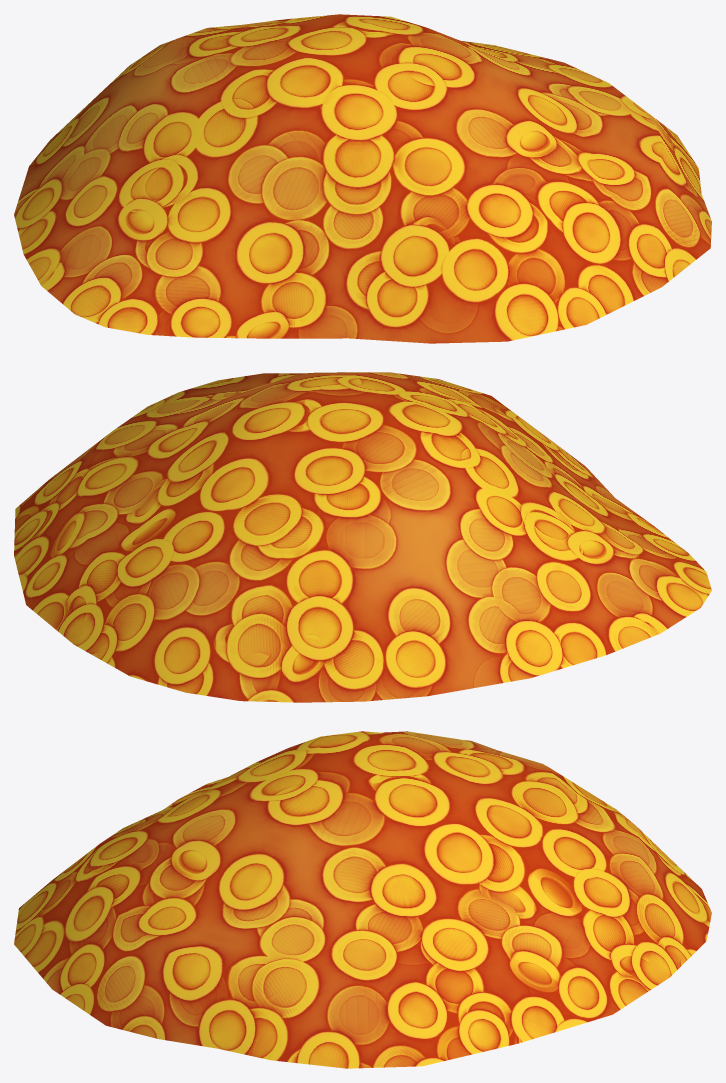
The model's file is SM_Small_Coin_Pile.fbx.
3 renders of one model, top to bottom at view 1: azimuth 30°, elevation 25°; view 2: azimuth 150°, elevation 25°; view 3: azimuth 270°, elevation 25°, orthographic. The views are drawn at different scales.
Parts seen in each view (by area): view 1: SM_Small_Coin_Pile_LOD0; view 2: SM_Small_Coin_Pile_LOD0; view 3: SM_Small_Coin_Pile_LOD0.
Boxes of the visible parts, <box> form: SM_Small_Coin_Pile_LOD0: <box>14,14,711,343</box>; SM_Small_Coin_Pile_LOD0: <box>14,372,711,702</box>; SM_Small_Coin_Pile_LOD0: <box>14,731,711,1068</box>.
Bounding box in the file's own units: 64.64 × 63.4 × 15.52.
1 material, 1 textured.
